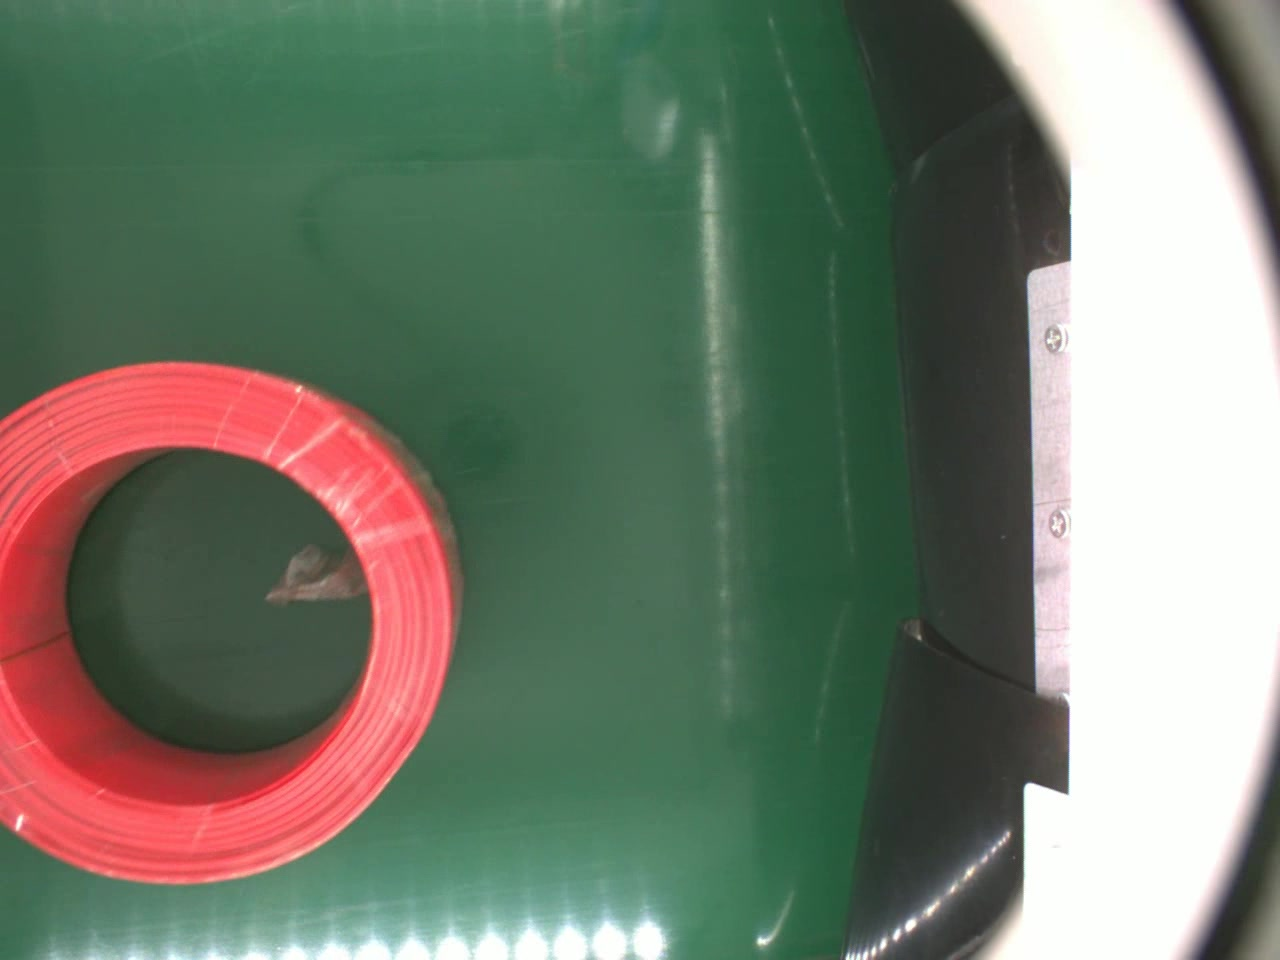red: (0, 354, 469, 887)
